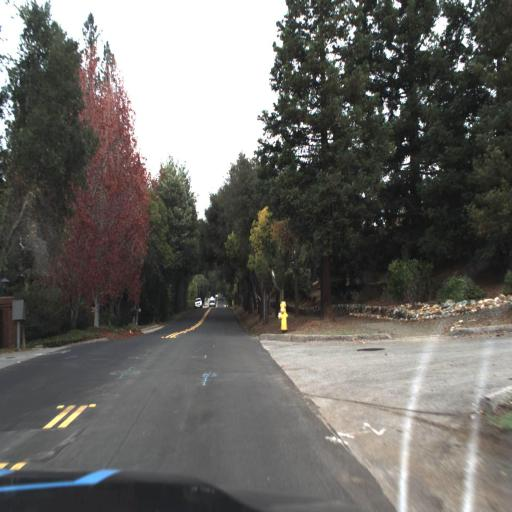car: (206, 292, 219, 311), (192, 295, 204, 315)
